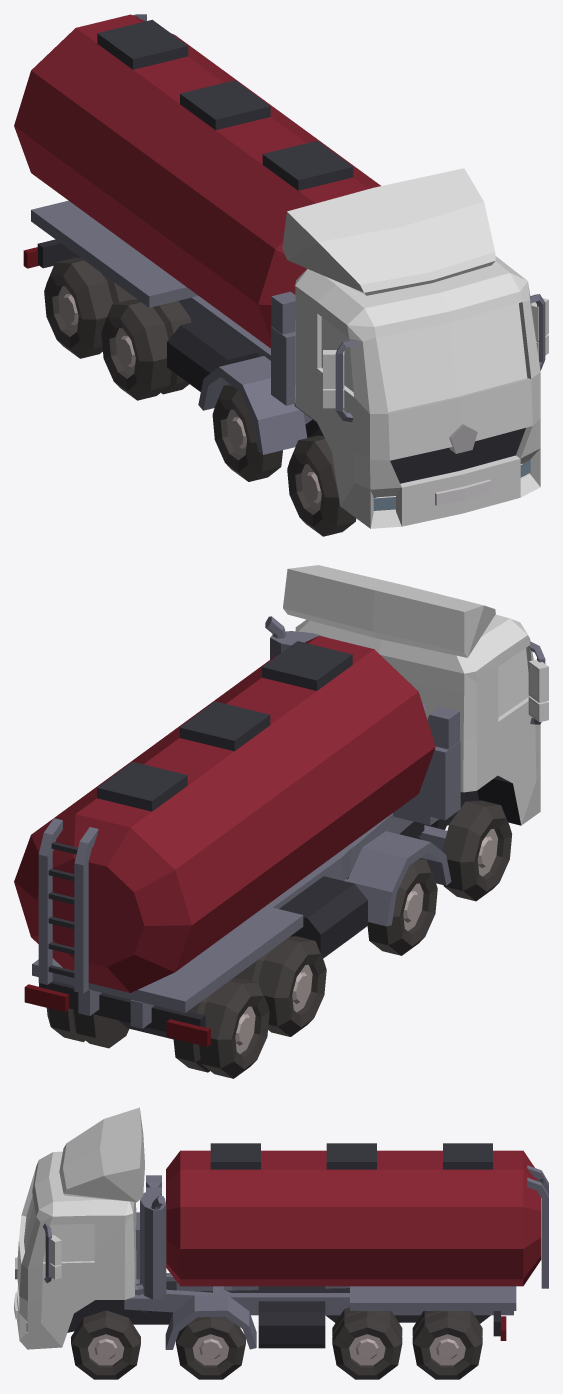
File: Truck_02.fbx
3 views of the same model, one above another, from view 1: azimuth 30°, elevation 25°; view 2: azimuth 150°, elevation 25°; view 3: azimuth 270°, elevation 25° (orthographic). The views are drawn at different scales.
Visible parts, largest first — view 1: Tank, Body, Body_Details, Wheels, Windows, Lights; view 2: Tank, Body_Details, Body, Wheels, Windows, Lights; view 3: Tank, Body, Body_Details, Wheels, Windows.
Boxes of the visible parts, x1,y1,x2,y2 form: Tank: (14,14,380,348); Body: (282,168,548,528); Body_Details: (31,200,545,505); Wheels: (44,257,356,536); Windows: (321,303,527,411); Lights: (23,247,530,510); Tank: (14,635,435,993); Body_Details: (32,616,545,1039); Body: (283,565,548,825); Wheels: (46,800,512,1078); Windows: (498,648,537,718); Lights: (24,984,210,1046); Tank: (166,1143,548,1288); Body: (17,1107,144,1349); Body_Details: (14,1175,516,1349); Wheels: (71,1307,482,1379); Windows: (24,1195,94,1261).
Size of the model in its own units: 2.94 by 3.77 by 8.56.
